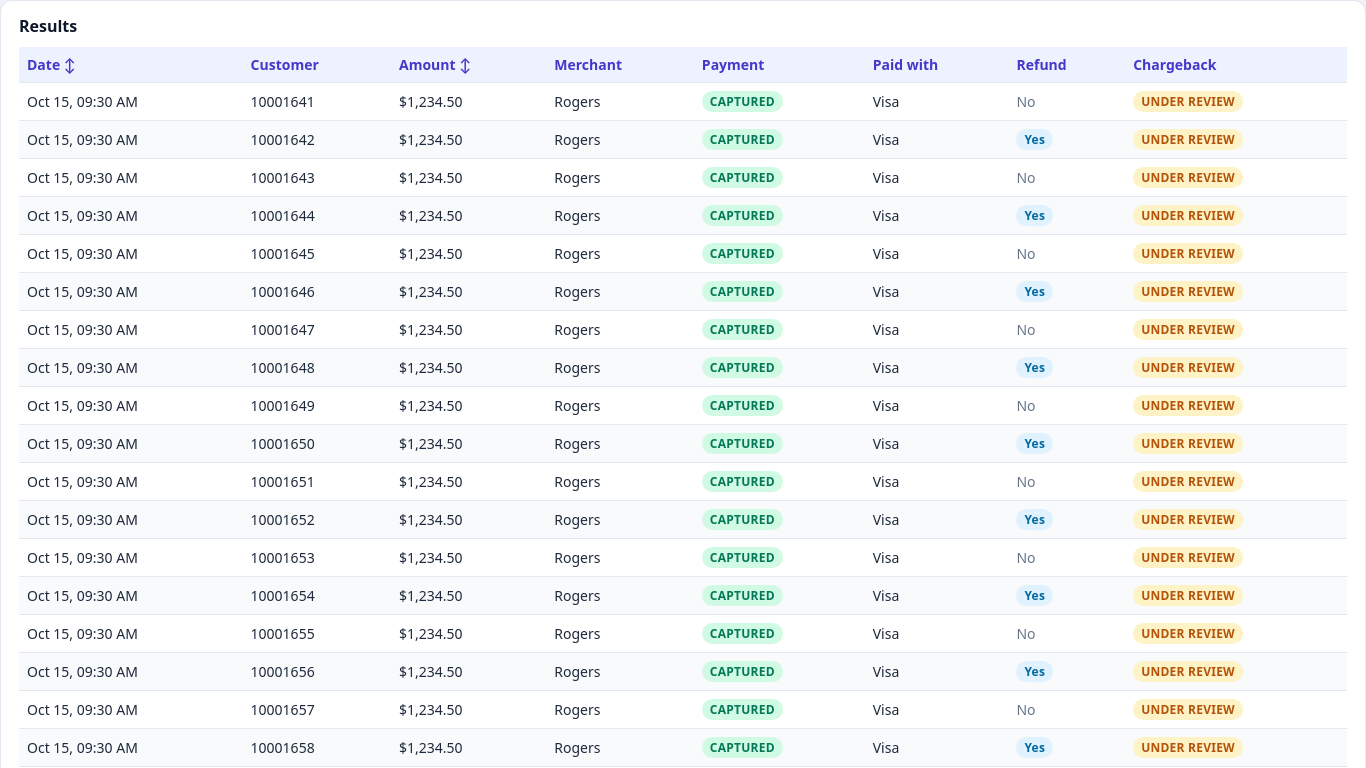
Scenario: summary bar and detail popup › shows a friendly error when the details cannot load
Click the row named "Open details for transaction 400000000000001" at (683, 102), box [19,82,1347,120]
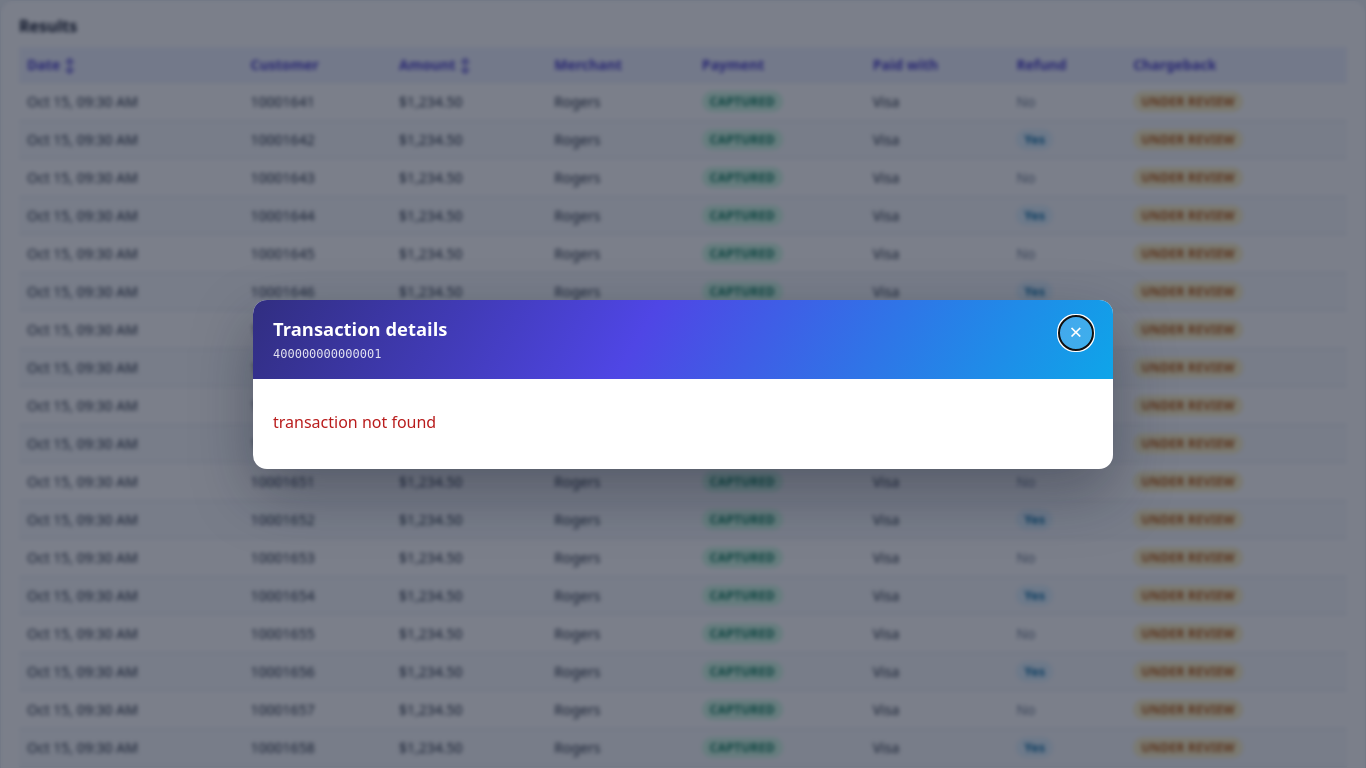
Expected: the message reads "transaction not found", [273,410,436,432]
